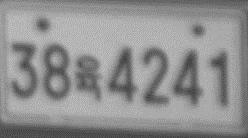1: (211, 49, 229, 106)
2: (143, 46, 169, 106)
3: (9, 41, 38, 97)
4: (107, 46, 139, 102), (172, 48, 203, 105)
8: (43, 42, 71, 99)
육: (73, 54, 103, 103)
